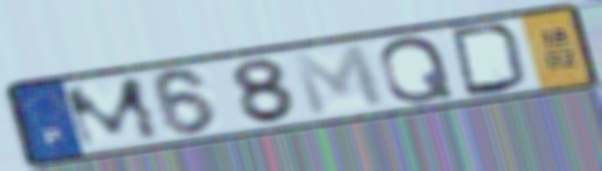6: (151, 65, 221, 138)
8: (228, 57, 301, 125)
D: (446, 22, 531, 99)
M: (58, 73, 167, 153), (288, 42, 391, 120)
Q: (375, 33, 458, 106)
